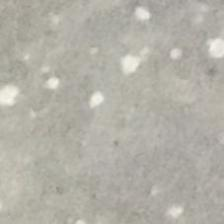Non_Crack: (27, 17, 186, 210)
